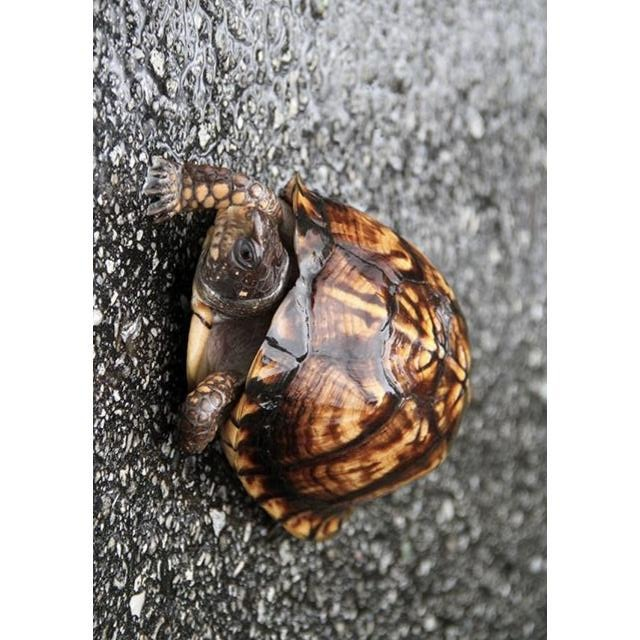turtle: (144, 157, 472, 544)
